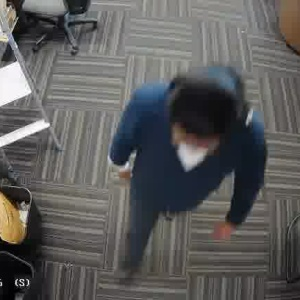person: (114, 65, 264, 265)
